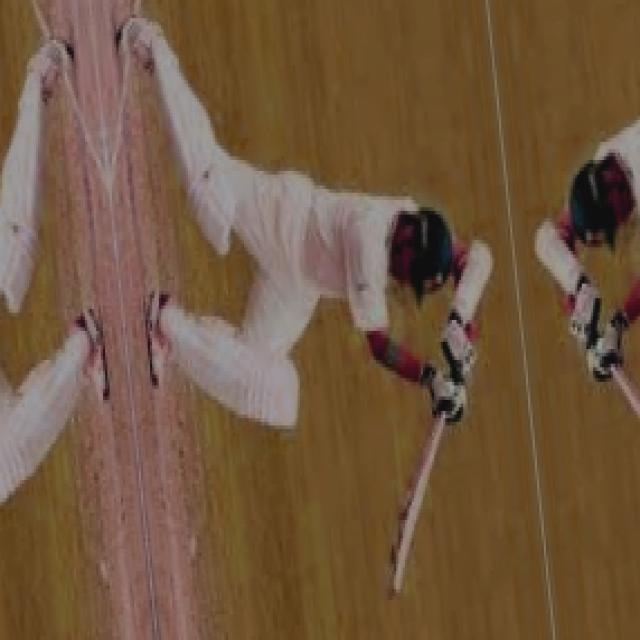toe: (381, 522, 417, 601)
